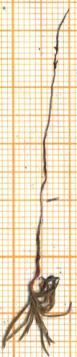flower: (0, 273, 77, 357)
root: (33, 4, 72, 202)
stem: (25, 200, 46, 292)
